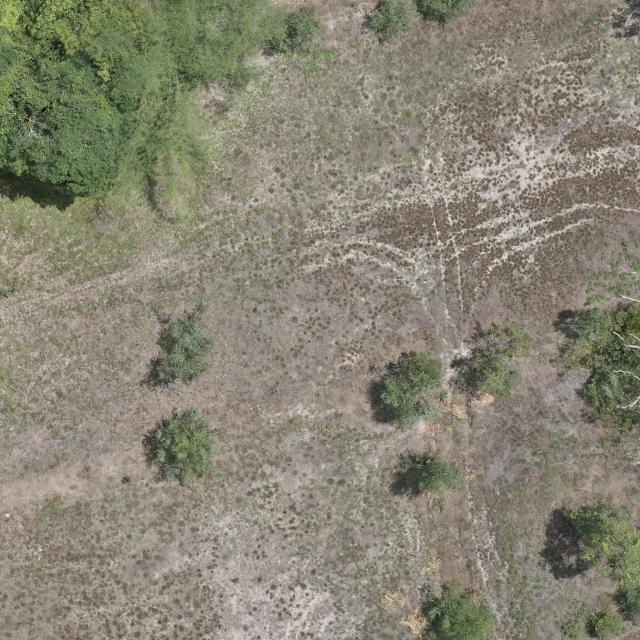Tree: (0, 60, 125, 198), (555, 237, 640, 438), (453, 319, 535, 405), (367, 349, 449, 430), (561, 502, 640, 584), (148, 404, 223, 490), (148, 300, 214, 386), (420, 582, 498, 640), (393, 448, 464, 499), (105, 65, 148, 112)
